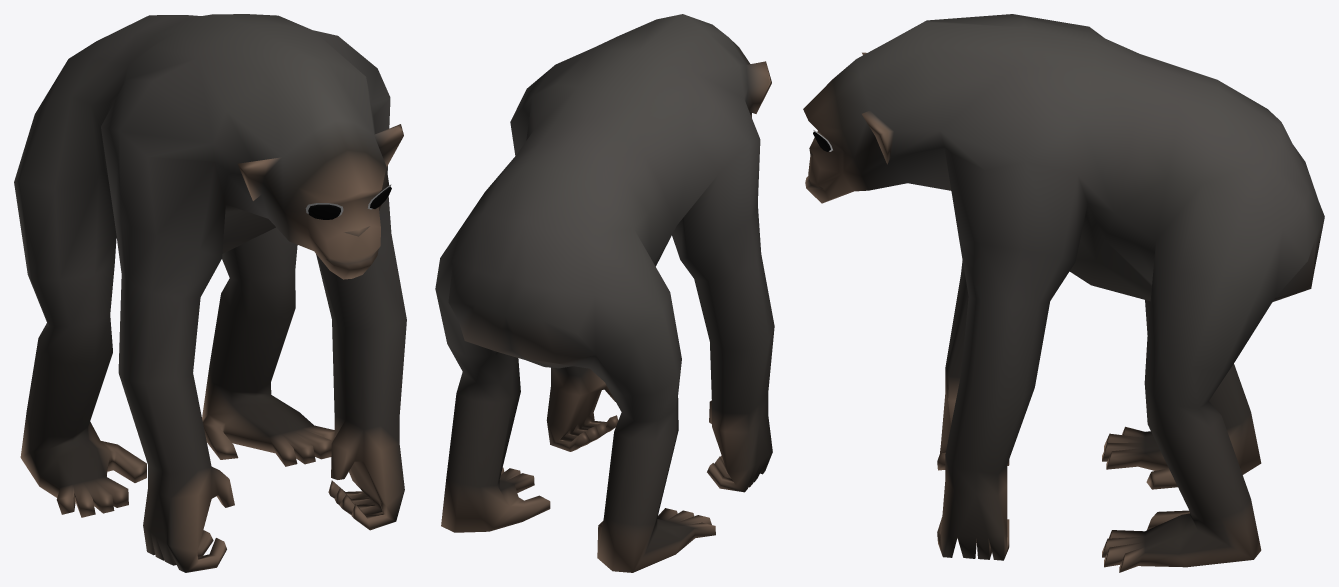
File: animals-animals-chimpanzee_v1.glb
3 views of the same model, side by side, from view 1: azimuth 30°, elevation 25°; view 2: azimuth 150°, elevation 25°; view 3: azimuth 270°, elevation 25° (orthographic). The views are drawn at different scales.
Visible parts, largest first — view 1: Chimpanzee.001; view 2: Chimpanzee.001; view 3: Chimpanzee.001.
Boxes of the visible parts, left/top/right/bottom form: Chimpanzee.001: left=14, top=14, right=406, bottom=572; Chimpanzee.001: left=435, top=14, right=774, bottom=572; Chimpanzee.001: left=803, top=14, right=1324, bottom=572.
Size of the model in its own units: 0.5464 by 0.9204 by 0.8977.
